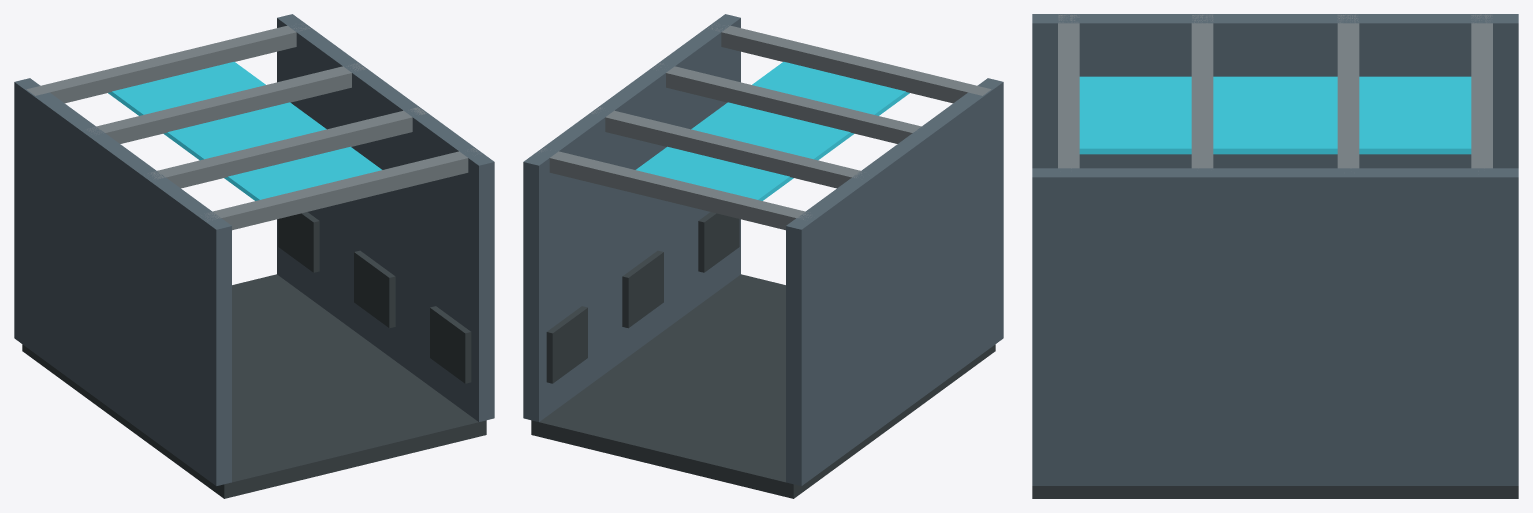
Rendered from gravifire_corridor_4m.glb.
The picture shows the model from 3 angles, left to right: view 1: azimuth 30°, elevation 25°; view 2: azimuth 150°, elevation 25°; view 3: azimuth 270°, elevation 25°; orthographic projection. The views are drawn at different scales.
Visible parts, largest first — view 1: wall_l, wall_r, floor, ceiling_light, ceiling_rib_-1.7, ceiling_rib_1.7, ceiling_rib_0.6, ceiling_rib_-0.6, kick_r_0, kick_r_1.5, kick_r_-1.5; view 2: wall_l, wall_r, floor, ceiling_light, ceiling_rib_1.7, ceiling_rib_-1.7, ceiling_rib_-0.6, ceiling_rib_0.6, kick_r_0, kick_r_-1.5, kick_r_1.5; view 3: wall_r, wall_l, ceiling_light, floor, ceiling_rib_0.6, ceiling_rib_-0.6, ceiling_rib_1.7, ceiling_rib_-1.7.
Boxes of the visible parts, x1=… form: wall_l: x1=14, y1=78, x2=231, y2=485; wall_r: x1=277, y1=14, x2=494, y2=421; floor: x1=22, y1=274, x2=486, y2=498; ceiling_light: x1=108, y1=61, x2=381, y2=200; ceiling_rib_-1.7: x1=26, y1=23, x2=310, y2=103; ceiling_rib_1.7: x1=201, y1=148, x2=481, y2=230; ceiling_rib_0.6: x1=148, y1=107, x2=426, y2=188; ceiling_rib_-0.6: x1=87, y1=63, x2=365, y2=143; kick_r_0: x1=354, y1=250, x2=395, y2=328; kick_r_1.5: x1=430, y1=306, x2=471, y2=383; kick_r_-1.5: x1=278, y1=212, x2=319, y2=272; wall_l: x1=786, y1=78, x2=1003, y2=485; wall_r: x1=523, y1=14, x2=740, y2=421; floor: x1=531, y1=274, x2=995, y2=498; ceiling_light: x1=636, y1=61, x2=909, y2=200; ceiling_rib_1.7: x1=708, y1=23, x2=991, y2=103; ceiling_rib_-1.7: x1=539, y1=148, x2=811, y2=230; ceiling_rib_-0.6: x1=591, y1=107, x2=864, y2=188; ceiling_rib_0.6: x1=653, y1=63, x2=922, y2=143; kick_r_0: x1=622, y1=250, x2=663, y2=328; kick_r_-1.5: x1=546, y1=306, x2=587, y2=383; kick_r_1.5: x1=698, y1=212, x2=739, y2=272; wall_r: x1=1032, y1=168, x2=1518, y2=485; wall_l: x1=1032, y1=14, x2=1518, y2=168; ceiling_light: x1=1079, y1=76, x2=1471, y2=154; floor: x1=1032, y1=486, x2=1518, y2=498; ceiling_rib_0.6: x1=1191, y1=14, x2=1213, y2=168; ceiling_rib_-0.6: x1=1337, y1=14, x2=1359, y2=168; ceiling_rib_1.7: x1=1058, y1=14, x2=1079, y2=168; ceiling_rib_-1.7: x1=1471, y1=14, x2=1492, y2=171.
Size of the model in its own units: 3.18 by 2.96 by 4.
